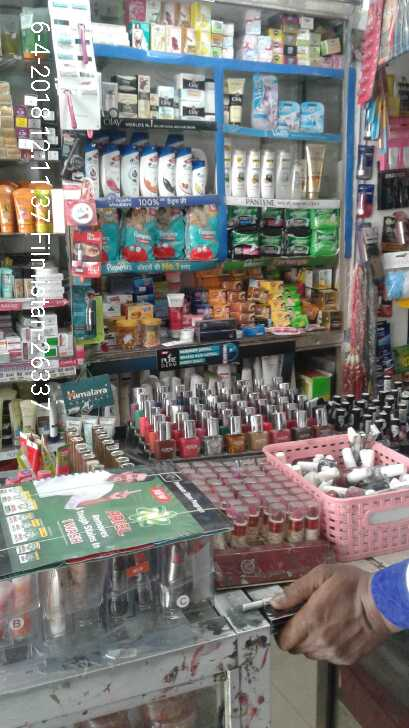venus: (251, 73, 279, 127), (303, 101, 326, 132), (280, 101, 302, 130)
